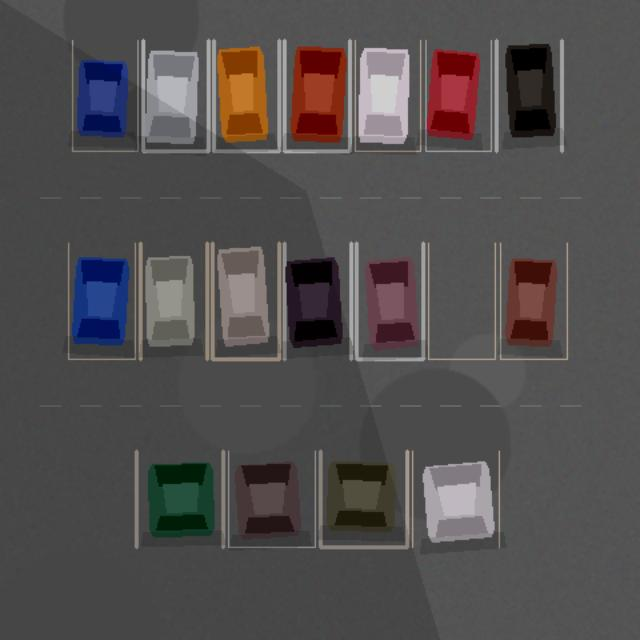space-empty: (428, 243, 495, 359)
space-occupied: (136, 451, 223, 547), (228, 451, 315, 547), (320, 451, 407, 547), (412, 451, 499, 547), (68, 243, 135, 359), (140, 243, 207, 359), (212, 243, 279, 359), (284, 243, 351, 359), (356, 243, 423, 359), (500, 243, 567, 359), (213, 40, 279, 151), (425, 40, 491, 151), (72, 40, 137, 151), (143, 40, 208, 151), (284, 40, 349, 151), (355, 40, 420, 151), (496, 40, 561, 151)
